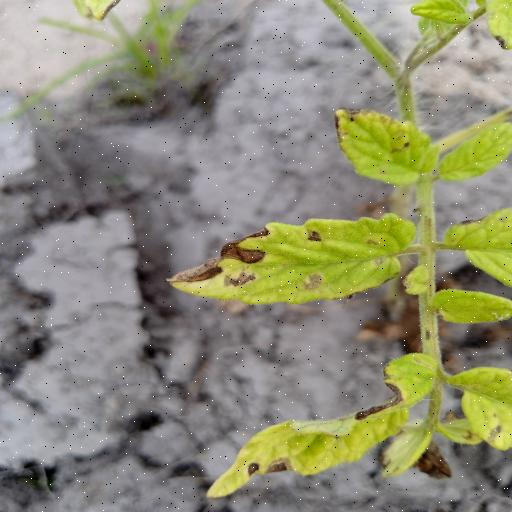Tomato_Brown_Spots: (214, 353, 442, 496), (163, 212, 426, 305), (330, 105, 442, 184)
